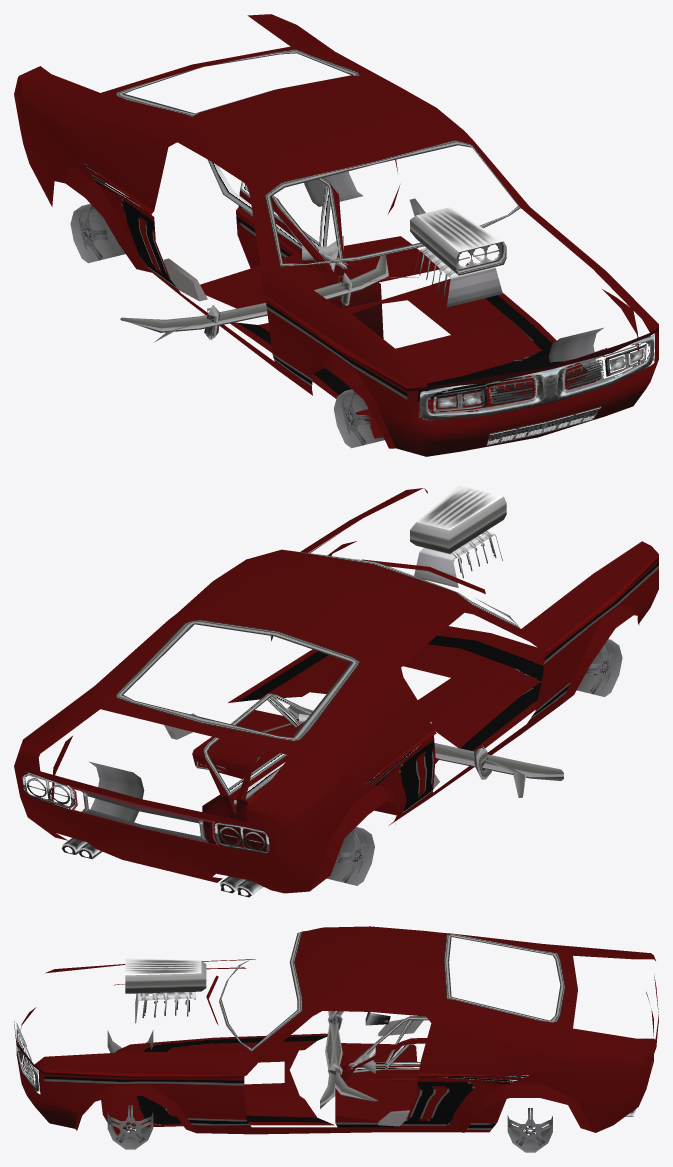
File: car-MSCL_Car1.glb
3 renders of one model, top to bottom at view 1: azimuth 30°, elevation 25°; view 2: azimuth 150°, elevation 25°; view 3: azimuth 270°, elevation 25°, orthographic. The views are drawn at different scales.
Visible parts, largest first — view 1: MSCL_Car1; view 2: MSCL_Car1; view 3: MSCL_Car1.
Boxes of the visible parts, x1,y1,x2,y2 form: MSCL_Car1: (14, 14, 658, 456); MSCL_Car1: (14, 485, 658, 897); MSCL_Car1: (14, 926, 658, 1152).
Size of the model in its own units: 2.34 by 1.46 by 4.67.
19 materials, 19 textured.
